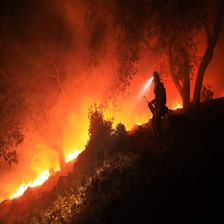fire: (12, 120, 112, 198)
